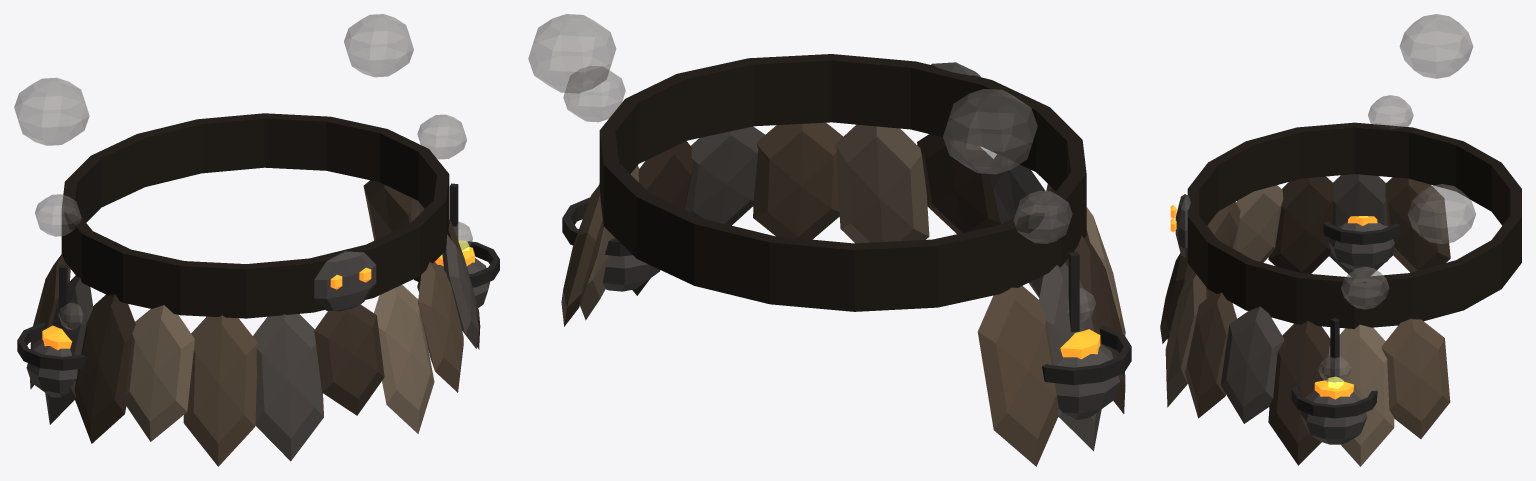
The model's file is sootmask_chief_belt.glb.
The picture shows the model from 3 angles, left to right: view 1: azimuth 30°, elevation 25°; view 2: azimuth 150°, elevation 25°; view 3: azimuth 270°, elevation 25°; orthographic projection. The views are drawn at different scales.
Parts seen in each view (by area): view 1: sootmask_chief_belt; view 2: sootmask_chief_belt; view 3: sootmask_chief_belt.
Part boxes in pixels (x1,y1,x2,y2): sootmask_chief_belt: (14, 14, 499, 466); sootmask_chief_belt: (528, 14, 1131, 466); sootmask_chief_belt: (1160, 14, 1521, 466).
Bounding box in the file's own units: 1.26 × 0.8031 × 0.917.
